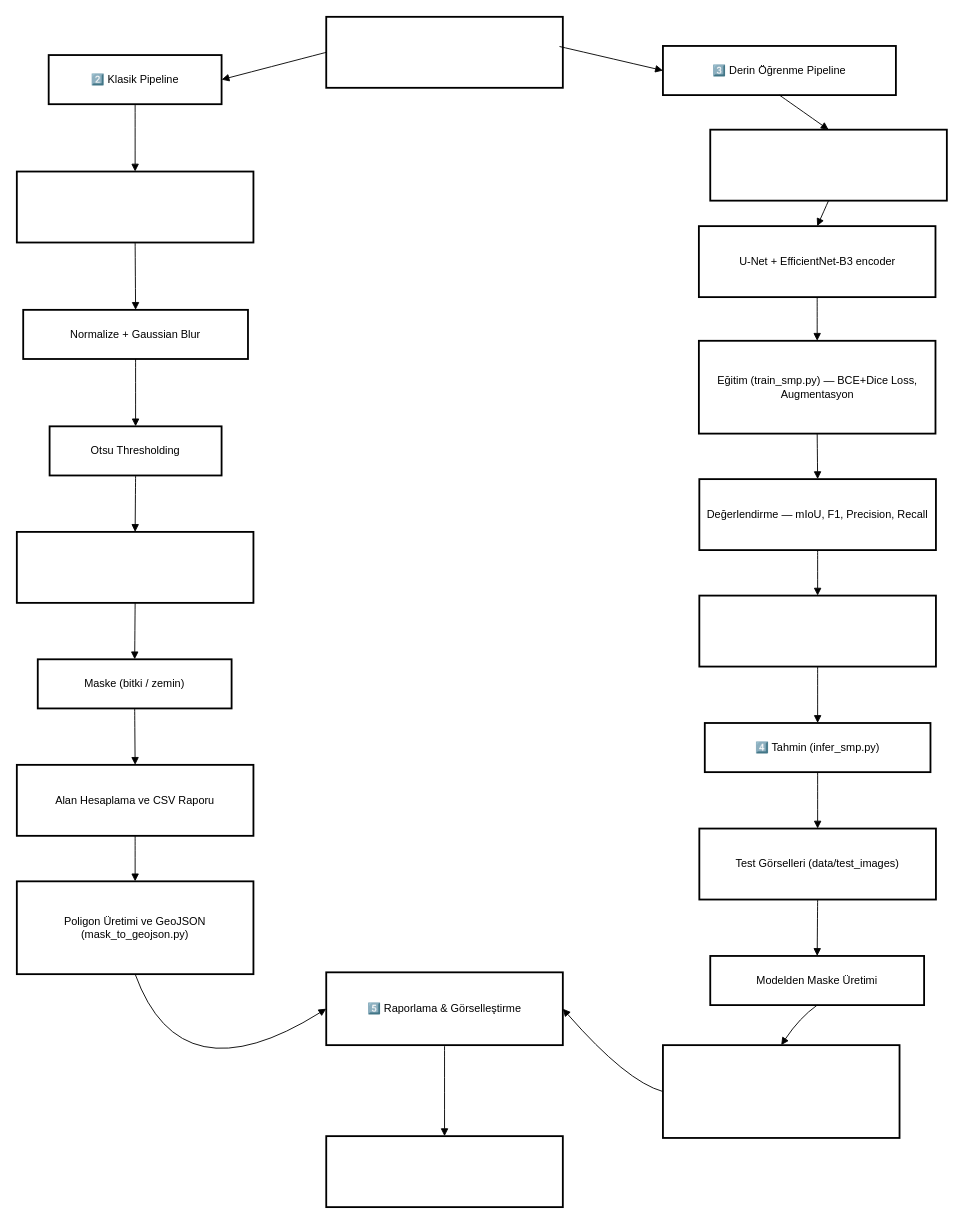
Image size: 963x1223. Some labels were removed from this diagram. The shapes that lost their labels are listed below. From the top down, each one's box as (x1, y1, x2, y2) in pixels, then its label:
(325, 15, 563, 88): 1️⃣ Veri Toplama (data/images)
(709, 128, 947, 201): Veri Hazırlığı (images + masks)
(15, 170, 254, 243): VARI indeksi: (G - R)/(G + R - B)
(15, 531, 254, 603): Morfolojik işlemler (Açma/Kapama)
(698, 594, 936, 667): Model Kaydı: outputs/model_smp.pt
(662, 1044, 900, 1138): Sonuç: bindirme görüntüler + CSV + GeoJSON
(325, 1135, 563, 1208): CSV | Alan (m²) | Kaplama Oranı | GeoJSON
